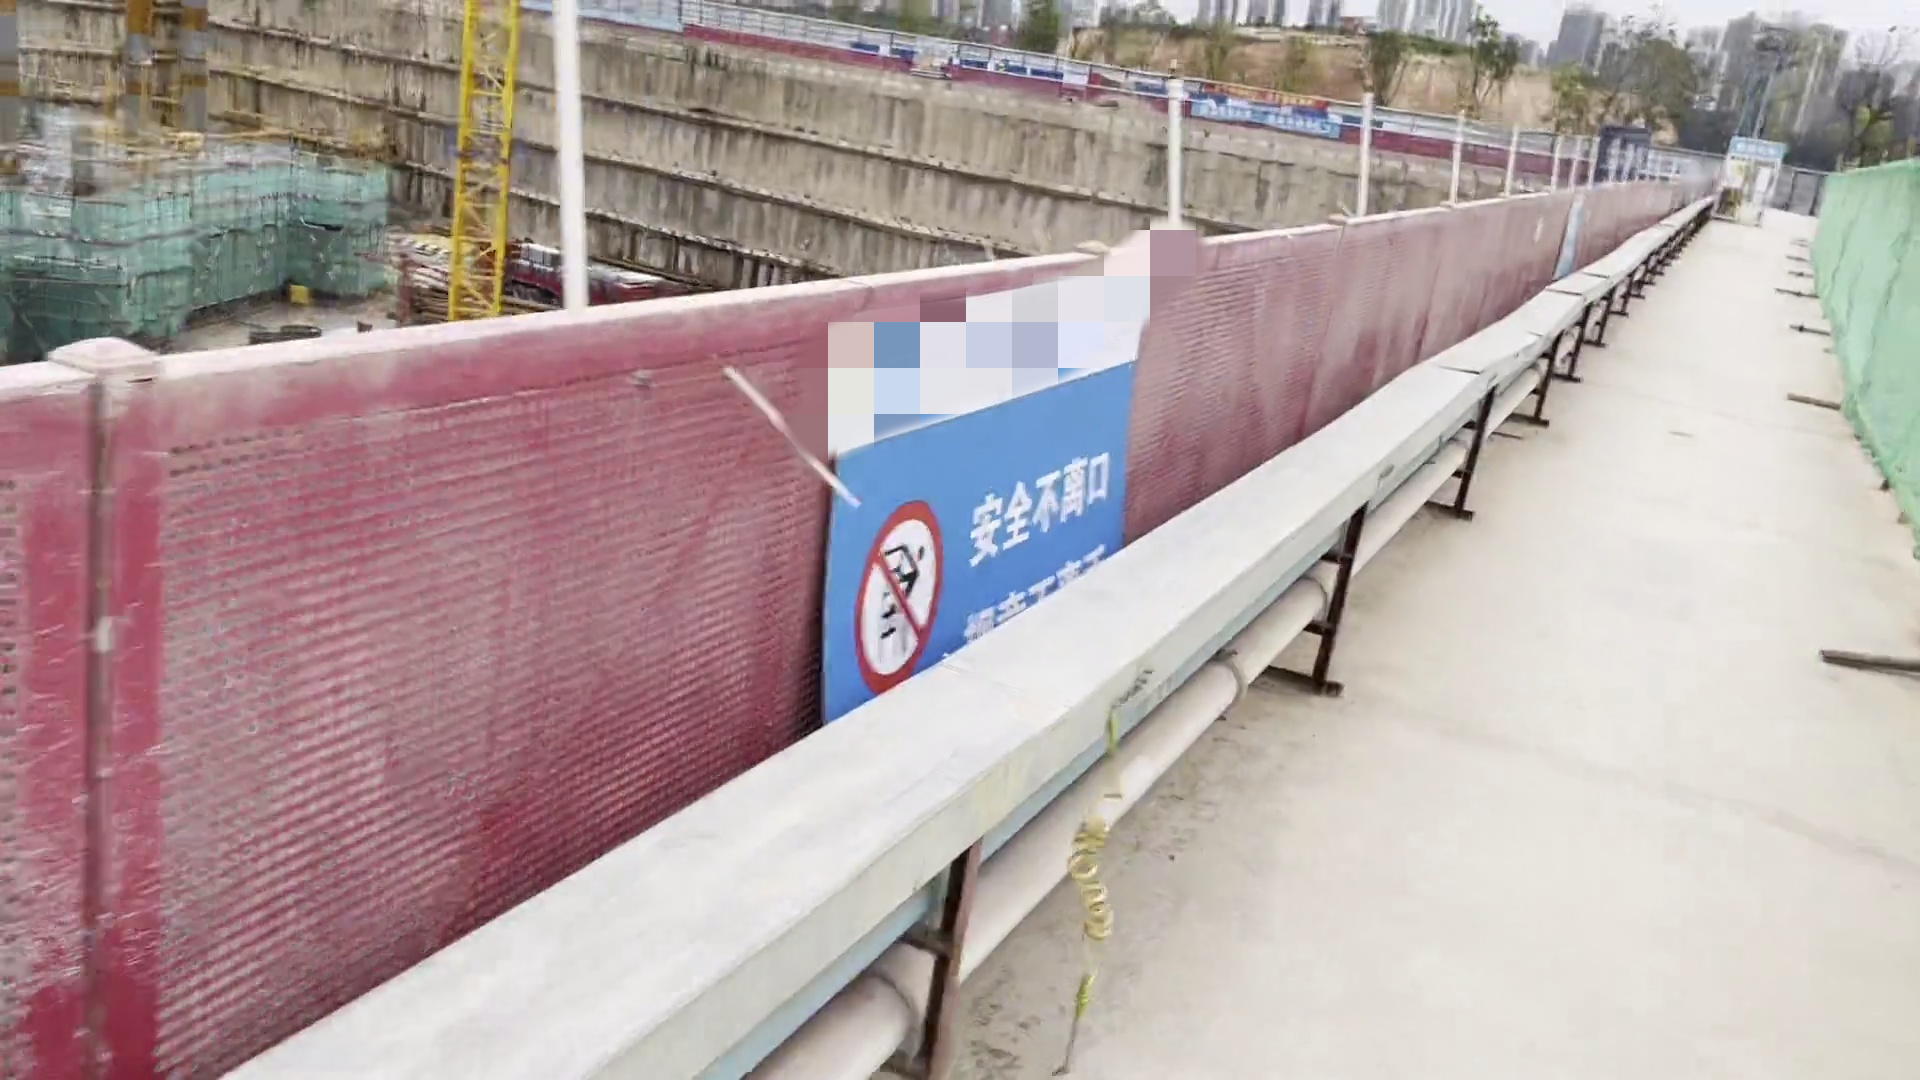fence: (86, 142, 1735, 616)
slogan: (825, 295, 1176, 644), (1188, 67, 1349, 157)
